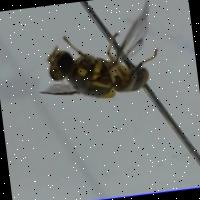Oriental-fruit-fly: (17, 9, 166, 113)
